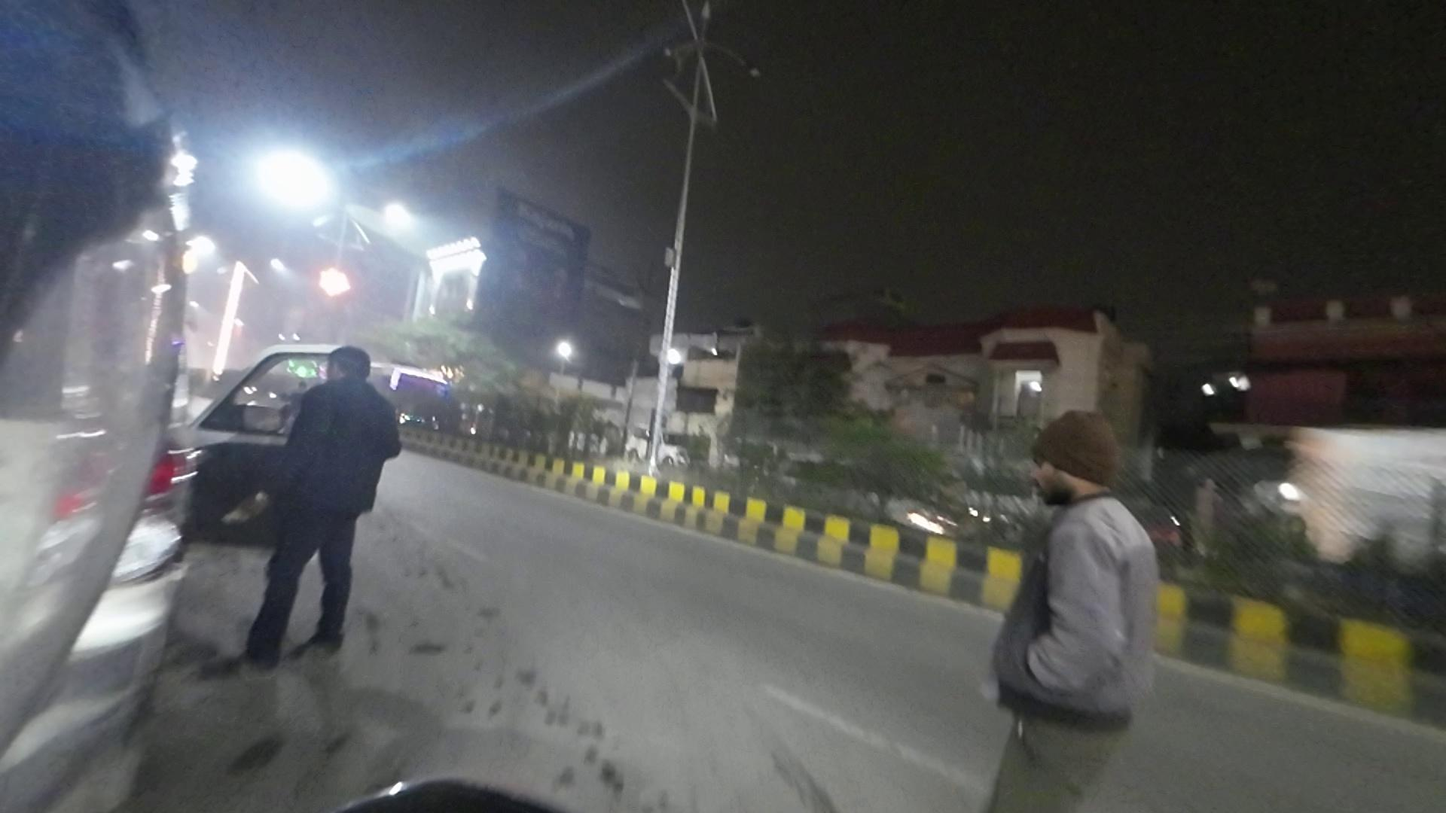streetlight: (728, 54, 763, 82)
